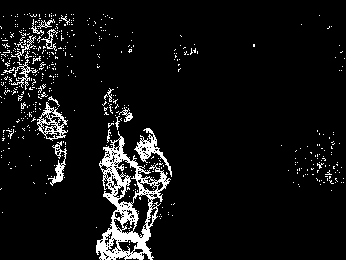person: (133, 127, 173, 236), (102, 132, 137, 230), (97, 203, 154, 260), (37, 96, 69, 185)
